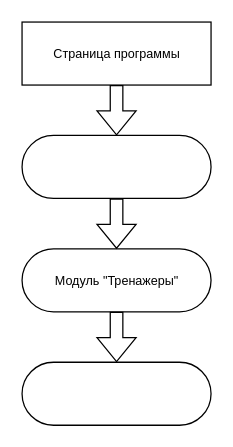
This 233x447 diagram has some shape labels left out. Here are the shapes that lost their labels. From the top down, the box of each, then its label:
(21, 134, 211, 198): Модуль "Больше о программе"
(21, 361, 211, 425): Модуль "Программы"
